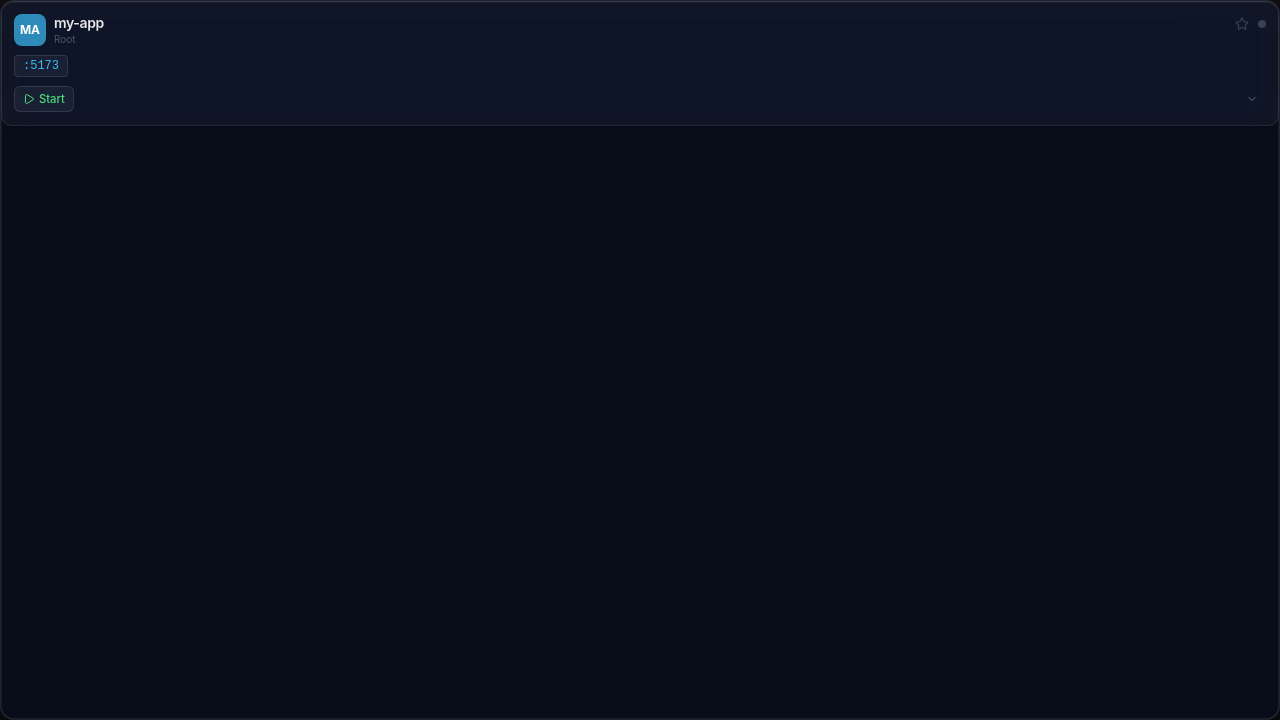
Scenario: ServerCard › interactions › resets port on Escape key in port editor
This screenshot has width=1280, height=720.
Click the button ":5173".
click(41, 66)  # box [14,54,68,76]
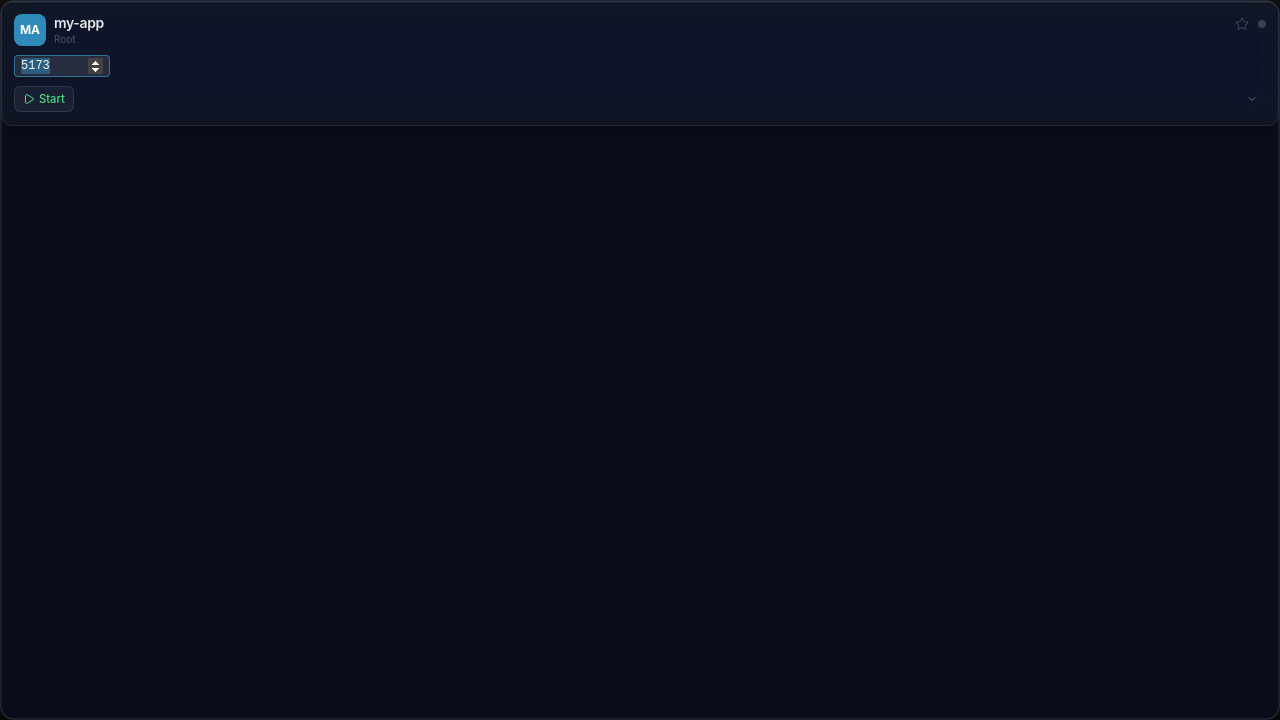
Replace the text in the number field showing "5173" with "9999" at (62,66), box [14,54,110,76]
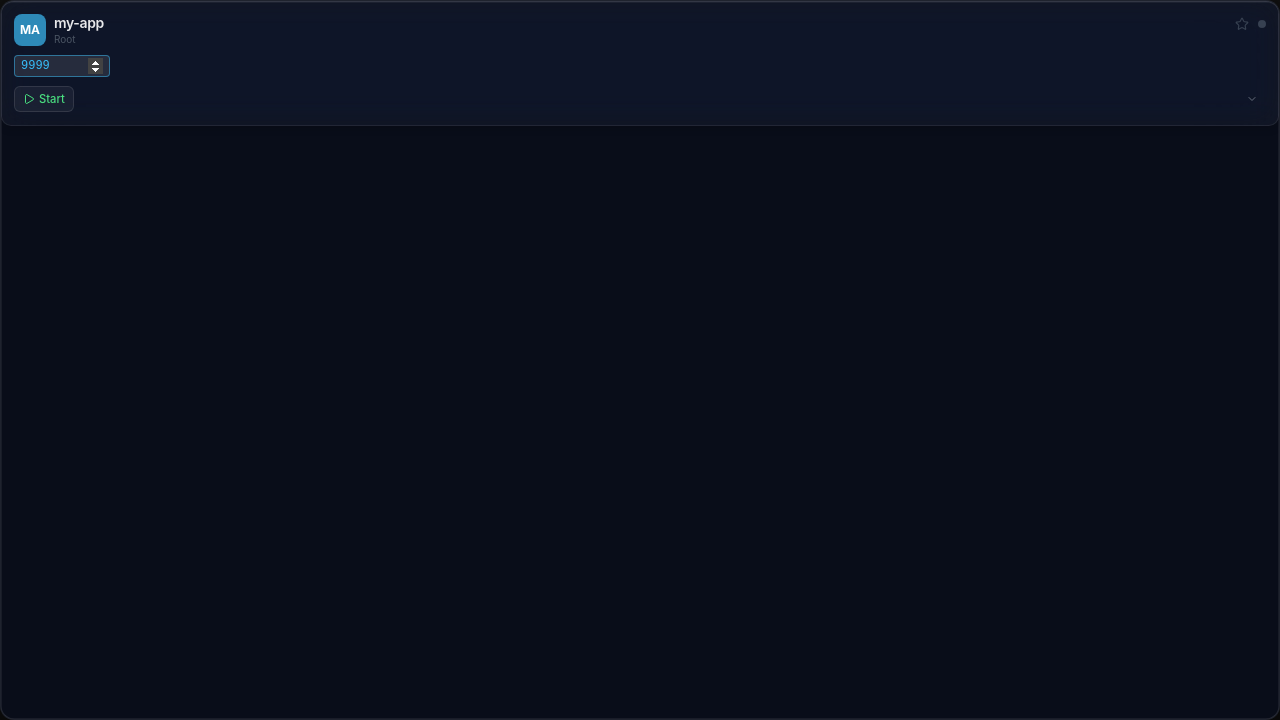
Press Escape in the number field showing "5173", box [14,54,110,76]
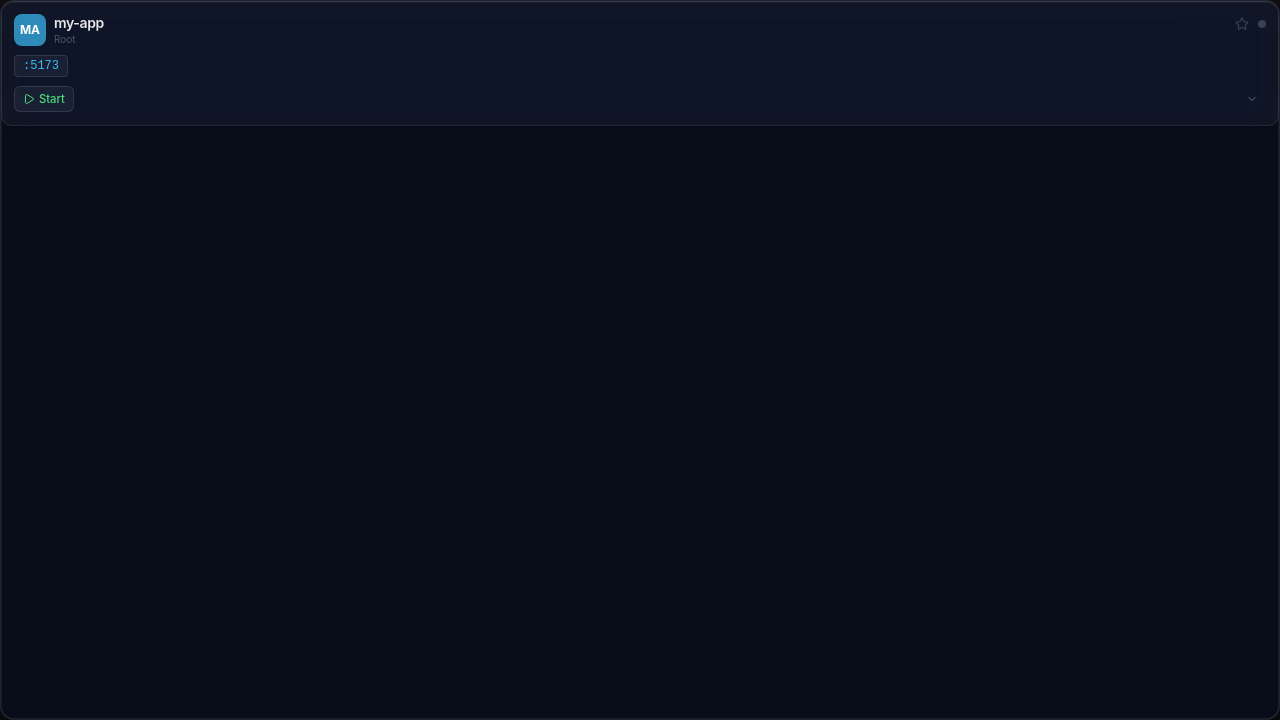
Now the button ":5173" is shown, box [14,54,68,76]
